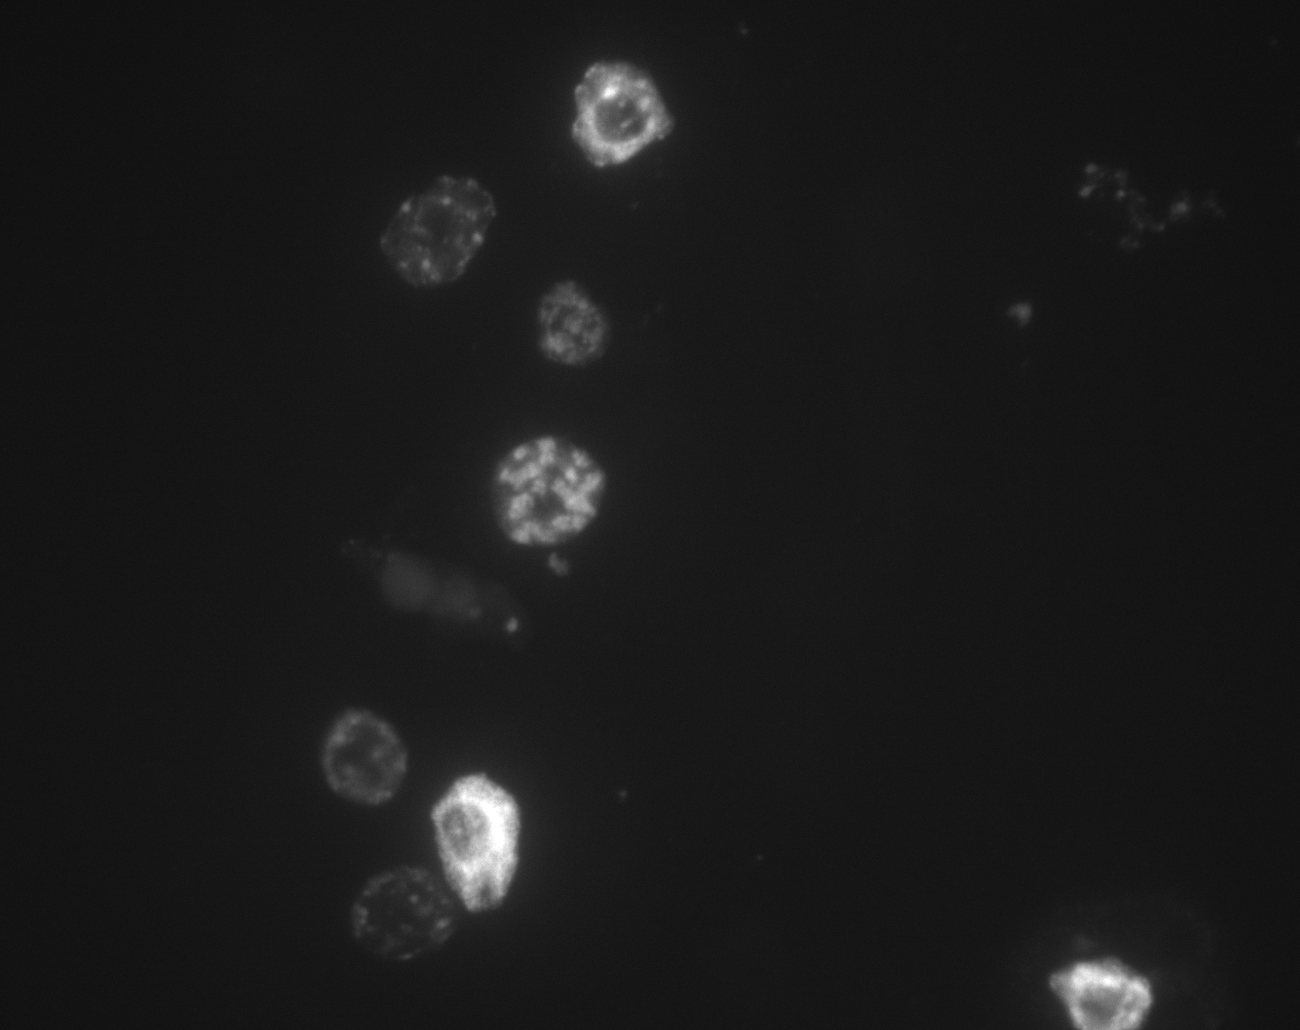Chromosomes: (464, 421, 631, 585)
Others: (347, 807, 541, 979), (530, 34, 723, 206), (357, 151, 517, 311), (1007, 909, 1211, 1030), (496, 272, 656, 409)
